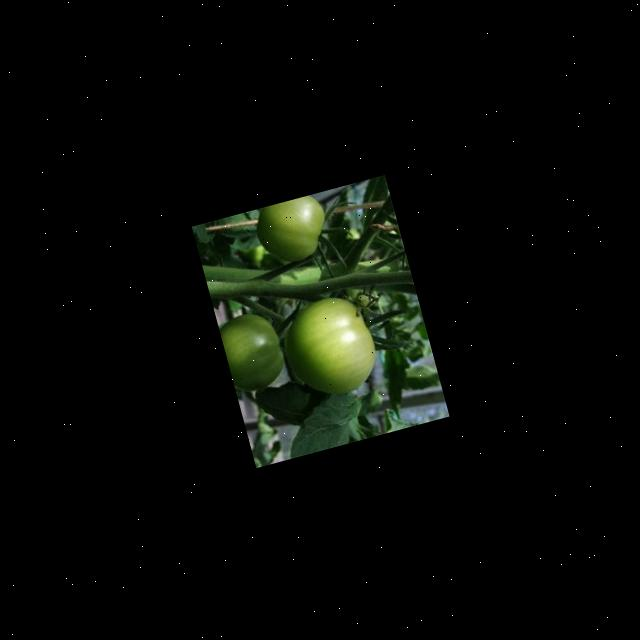tomato: (277, 278, 409, 410), (249, 190, 338, 264)
